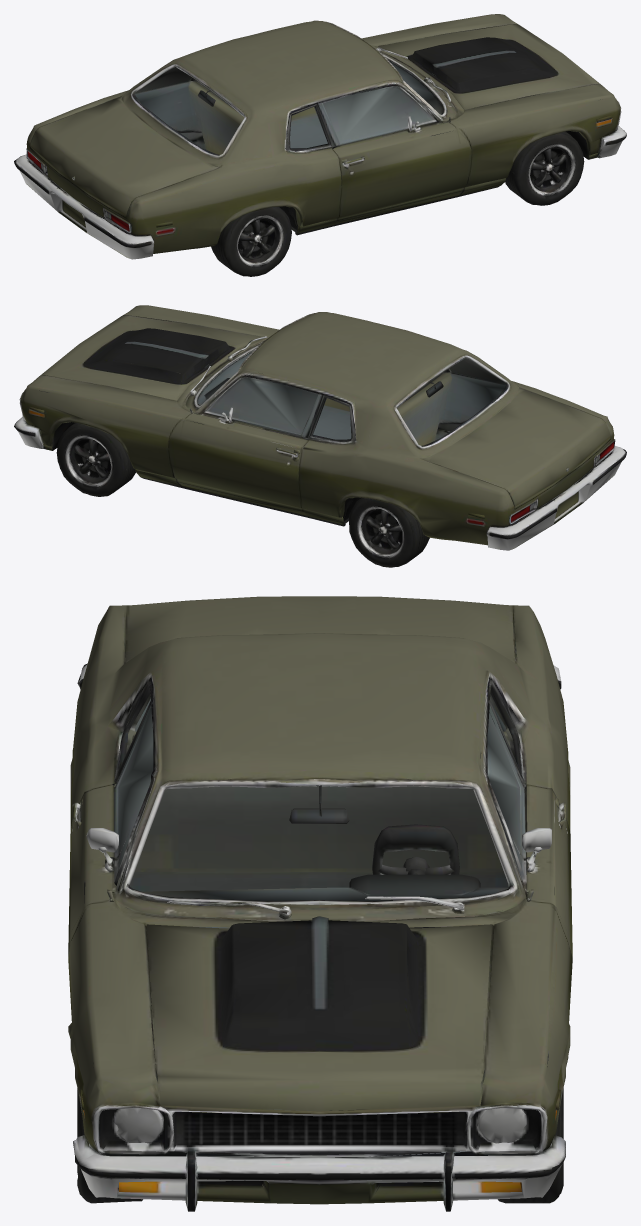
File: car-2.glb
3 renders of one model, top to bottom at view 1: azimuth 30°, elevation 25°; view 2: azimuth 150°, elevation 25°; view 3: azimuth 270°, elevation 25°, orthographic. The views are drawn at different scales.
Visible parts, largest first — view 1: tripo_node_bf609493-4440-4df2-b536-1dbc4bbd79f3; view 2: tripo_node_bf609493-4440-4df2-b536-1dbc4bbd79f3; view 3: tripo_node_bf609493-4440-4df2-b536-1dbc4bbd79f3.
Part boxes in pixels (x1,y1,x2,y2): tripo_node_bf609493-4440-4df2-b536-1dbc4bbd79f3: (14, 14, 626, 276); tripo_node_bf609493-4440-4df2-b536-1dbc4bbd79f3: (14, 305, 626, 567); tripo_node_bf609493-4440-4df2-b536-1dbc4bbd79f3: (68, 596, 572, 1211).
Size of the model in its own units: 5.21 by 1.5 by 2.23.
Materials: 1 (1 with a texture image).
